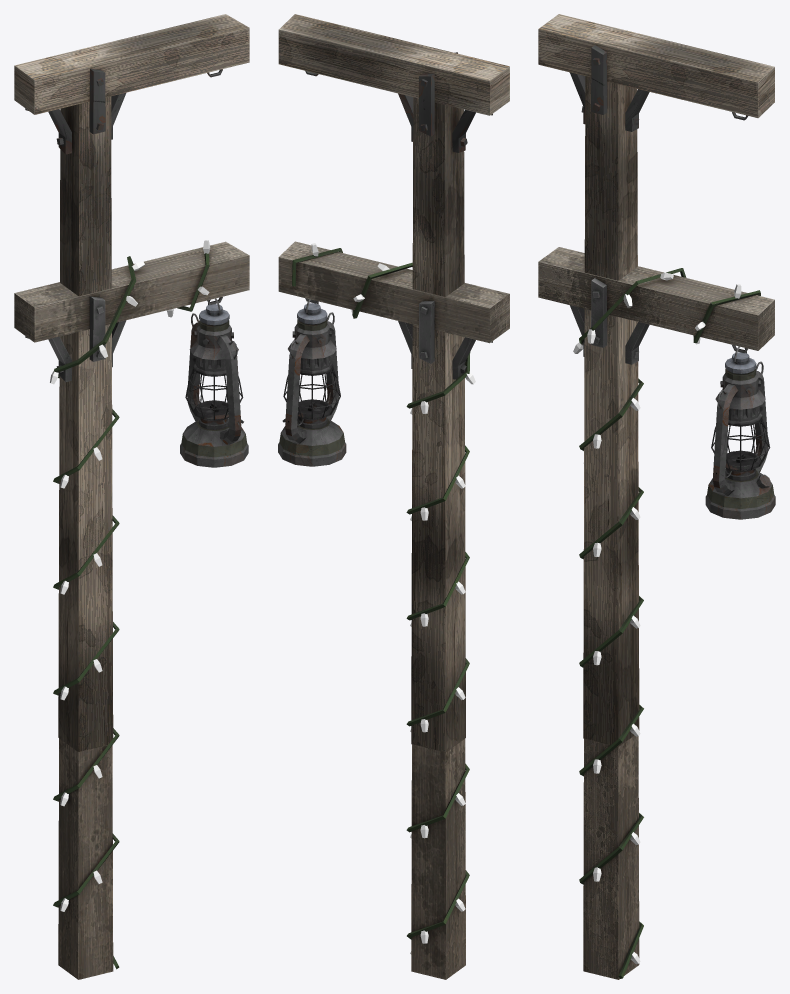
The model's file is HolidayLampPole1.glb.
3 renders of one model, left to right at view 1: azimuth 30°, elevation 25°; view 2: azimuth 150°, elevation 25°; view 3: azimuth 330°, elevation 25°, orthographic. The views are drawn at different scales.
Visible parts, largest first — view 1: HolidayLampPole1, NewOffset, lantern; view 2: HolidayLampPole1, NewOffset, lantern; view 3: HolidayLampPole1, NewOffset, lantern.
Part boxes in pixels (x1=…): HolidayLampPole1: x1=14, y1=14, x2=249, y2=752; NewOffset: x1=14, y1=240, x2=249, y2=979; lantern: x1=180, y1=298, x2=248, y2=467; HolidayLampPole1: x1=278, y1=14, x2=509, y2=752; NewOffset: x1=278, y1=241, x2=509, y2=979; lantern: x1=278, y1=299, x2=346, y2=466; HolidayLampPole1: x1=538, y1=14, x2=774, y2=746; NewOffset: x1=538, y1=247, x2=774, y2=979; lantern: x1=705, y1=346, x2=775, y2=519.
Size of the model in its own units: 1 by 4 by 0.4207.
4 materials, 3 textured.
